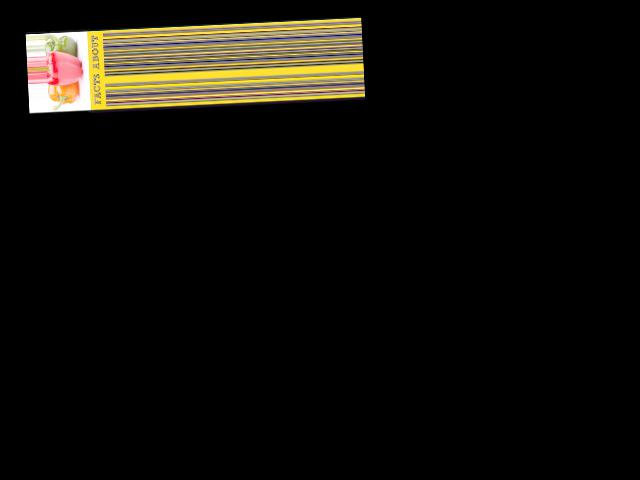bell_pepper: (45, 32, 82, 54)
